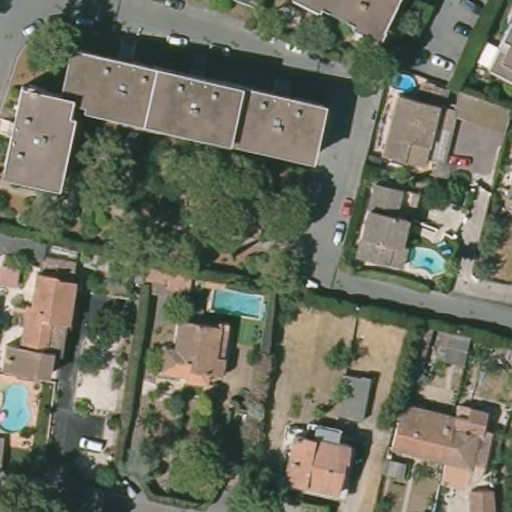pool: (204, 286, 271, 321), (406, 241, 456, 282), (1, 381, 37, 436), (390, 69, 421, 98)
